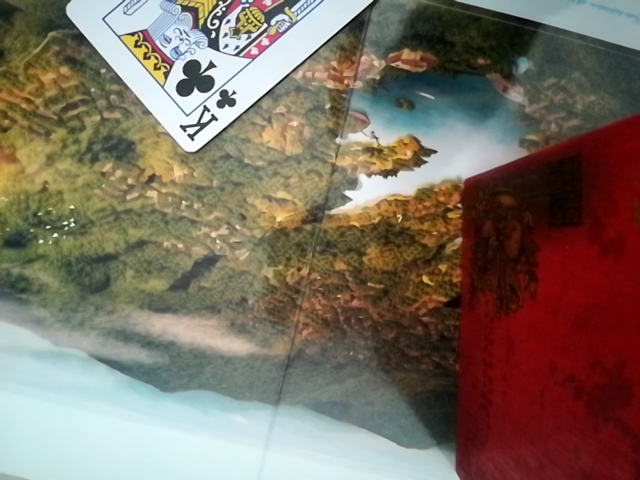mh k: (35, 0, 407, 160)
